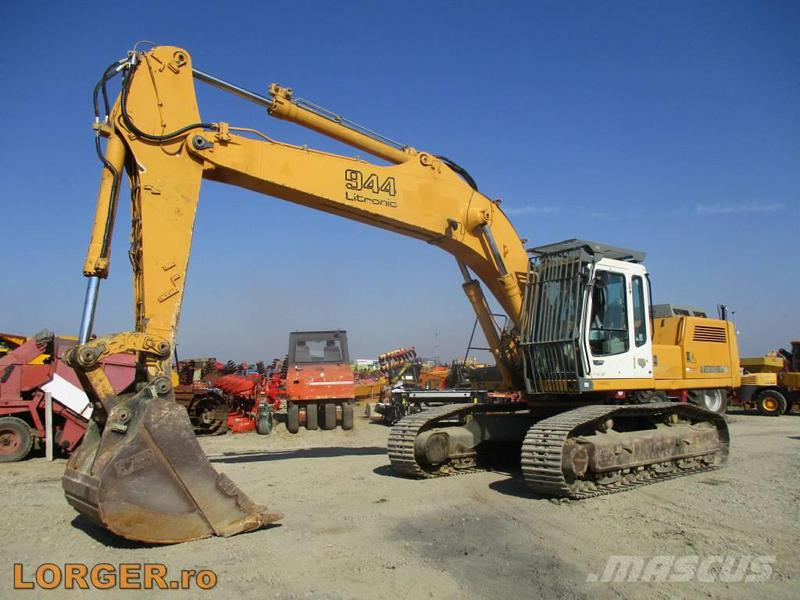shovel: (49, 41, 750, 551)
